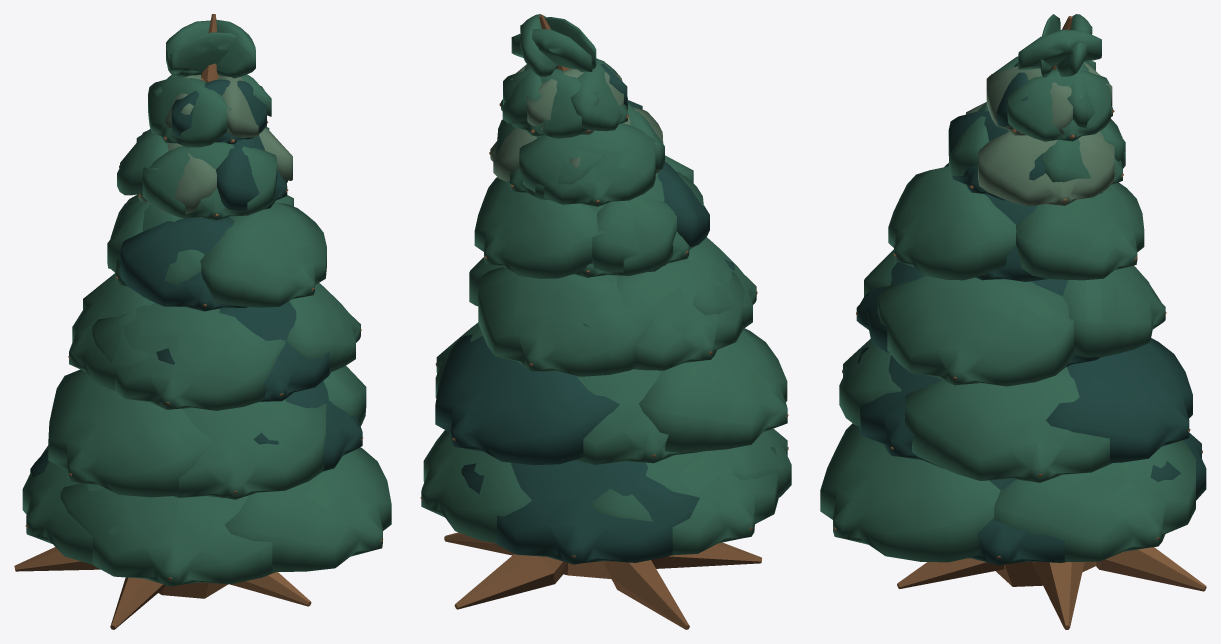
The model's file is pine_sapling.glb.
The picture shows the model from 3 angles, left to right: view 1: azimuth 30°, elevation 25°; view 2: azimuth 150°, elevation 25°; view 3: azimuth 270°, elevation 25°; orthographic projection. The views are drawn at different scales.
Parts seen in each view (by area): view 1: pine_sapling; view 2: pine_sapling; view 3: pine_sapling.
Boxes of the visible parts, box(x1,y1,x2,y2) form: pine_sapling: box(14, 14, 391, 629); pine_sapling: box(420, 14, 791, 629); pine_sapling: box(820, 14, 1206, 629).
Size of the model in its own units: 1.38 by 2.31 by 1.4.
